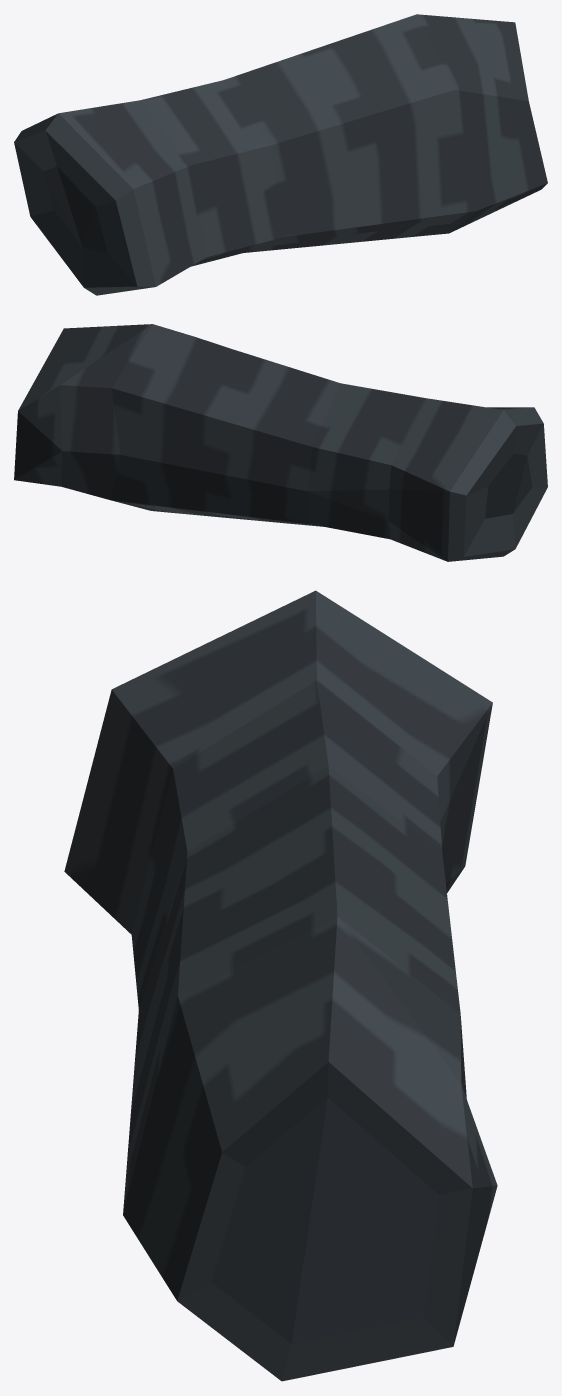
File: Chr_ArmLowerRight_Female_17_Static.fbx
3 views of the same model, one above another, from view 1: azimuth 30°, elevation 25°; view 2: azimuth 150°, elevation 25°; view 3: azimuth 270°, elevation 25° (orthographic). The views are drawn at different scales.
Visible parts, largest first — view 1: Chr_ArmLowerRight_Female_17_Static; view 2: Chr_ArmLowerRight_Female_17_Static; view 3: Chr_ArmLowerRight_Female_17_Static.
Boxes of the visible parts, x1,y1,x2,y2 form: Chr_ArmLowerRight_Female_17_Static: [14, 14, 547, 295]; Chr_ArmLowerRight_Female_17_Static: [14, 324, 547, 561]; Chr_ArmLowerRight_Female_17_Static: [64, 590, 497, 1381].
Bounding box in the file's own units: 0.2969 × 0.1221 × 0.1191.
